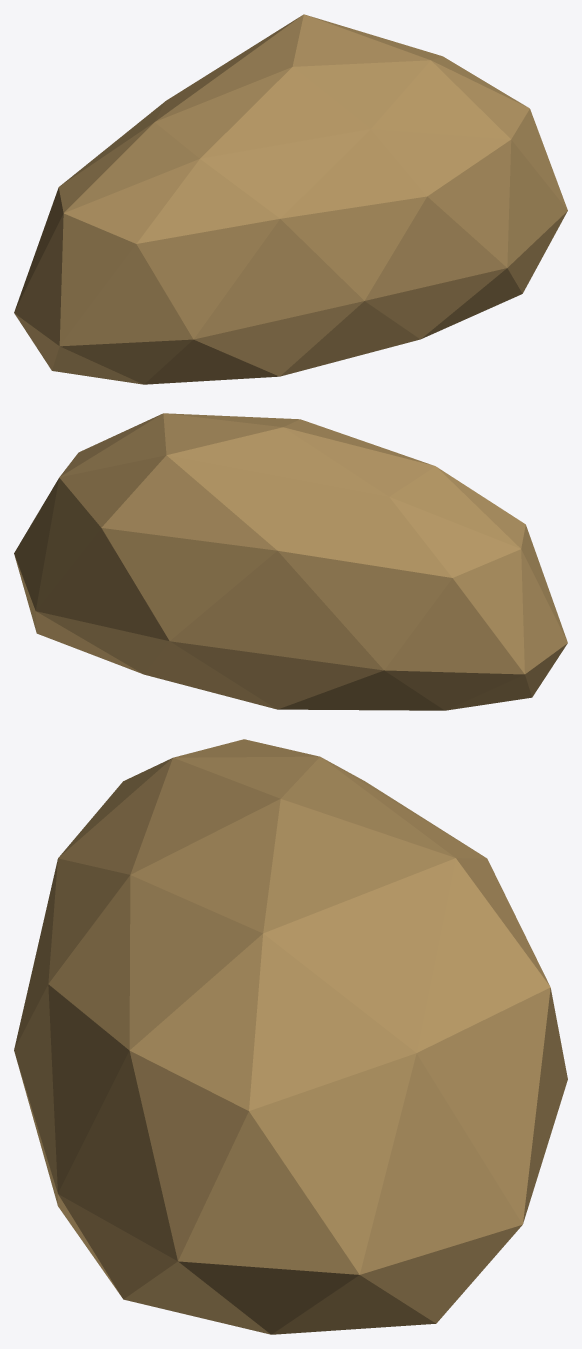
Rendered from Stone3.fbx.
The picture shows the model from 3 angles, top to bottom: view 1: azimuth 30°, elevation 25°; view 2: azimuth 150°, elevation 25°; view 3: azimuth 270°, elevation 25°; orthographic projection. The views are drawn at different scales.
Visible parts, largest first — view 1: Stone3; view 2: Stone3; view 3: Stone3.
Part boxes in pixels (left/top/right/bottom): Stone3: left=14, top=14, right=567, bottom=384; Stone3: left=14, top=413, right=567, bottom=710; Stone3: left=14, top=739, right=567, bottom=1334.
Size of the model in its own units: 211 by 89.79 by 123.
